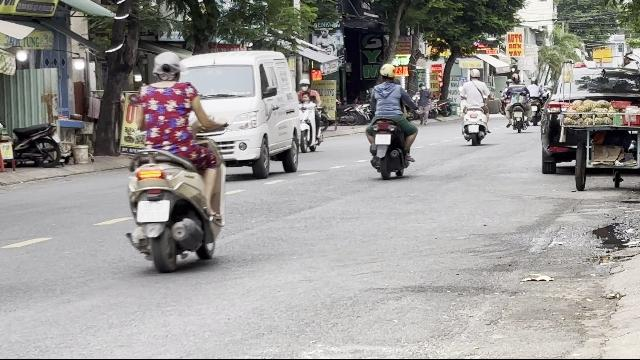helmet: (379, 63, 395, 81)
licenseplate: (138, 201, 168, 221), (375, 134, 391, 144)
motorcyclist: (117, 48, 230, 274), (364, 62, 418, 178)
nohelmet: (150, 50, 182, 84)
